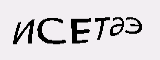Т: (92, 22, 106, 46)
Ф: (38, 22, 61, 49)
Э: (59, 25, 76, 50)
Я: (101, 21, 120, 45), (76, 24, 93, 49)
